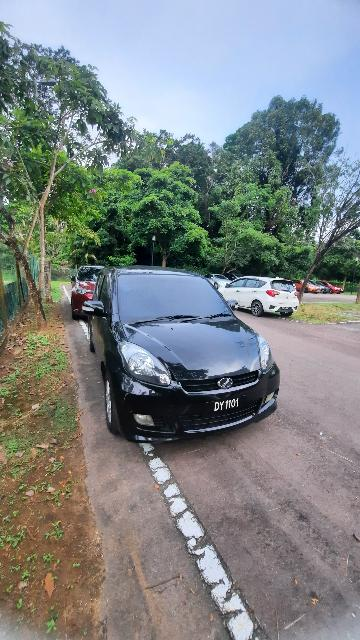License_Plate: (204, 395, 250, 416)
car: (82, 265, 296, 447)
